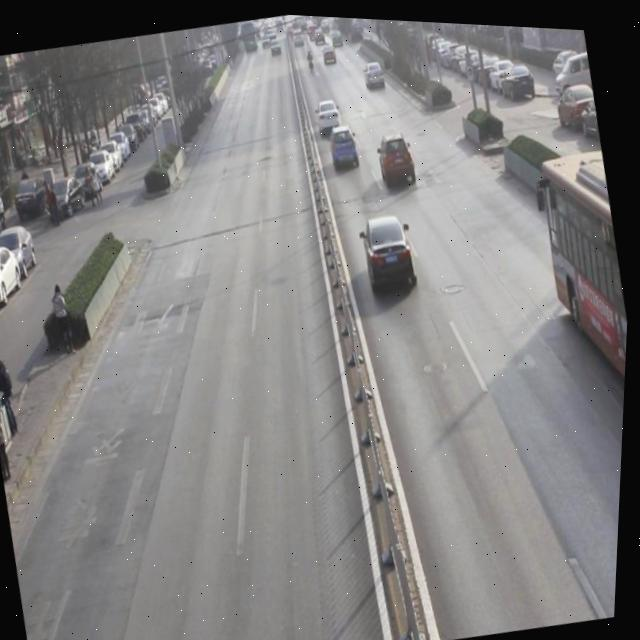car: (358, 202, 425, 294), (375, 128, 422, 190), (326, 119, 364, 173), (314, 93, 347, 135), (361, 55, 390, 91)
van: (527, 138, 636, 429)
